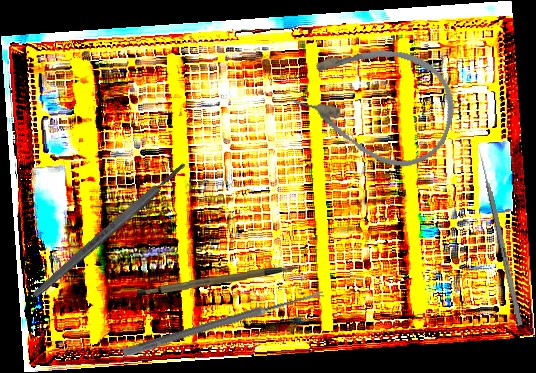Cannula: (284, 24, 468, 179)
Pusher: (475, 144, 524, 326)
Scalpel Handle: (29, 159, 190, 301), (136, 264, 300, 300)
Surgical Spoon: (122, 287, 325, 359)
